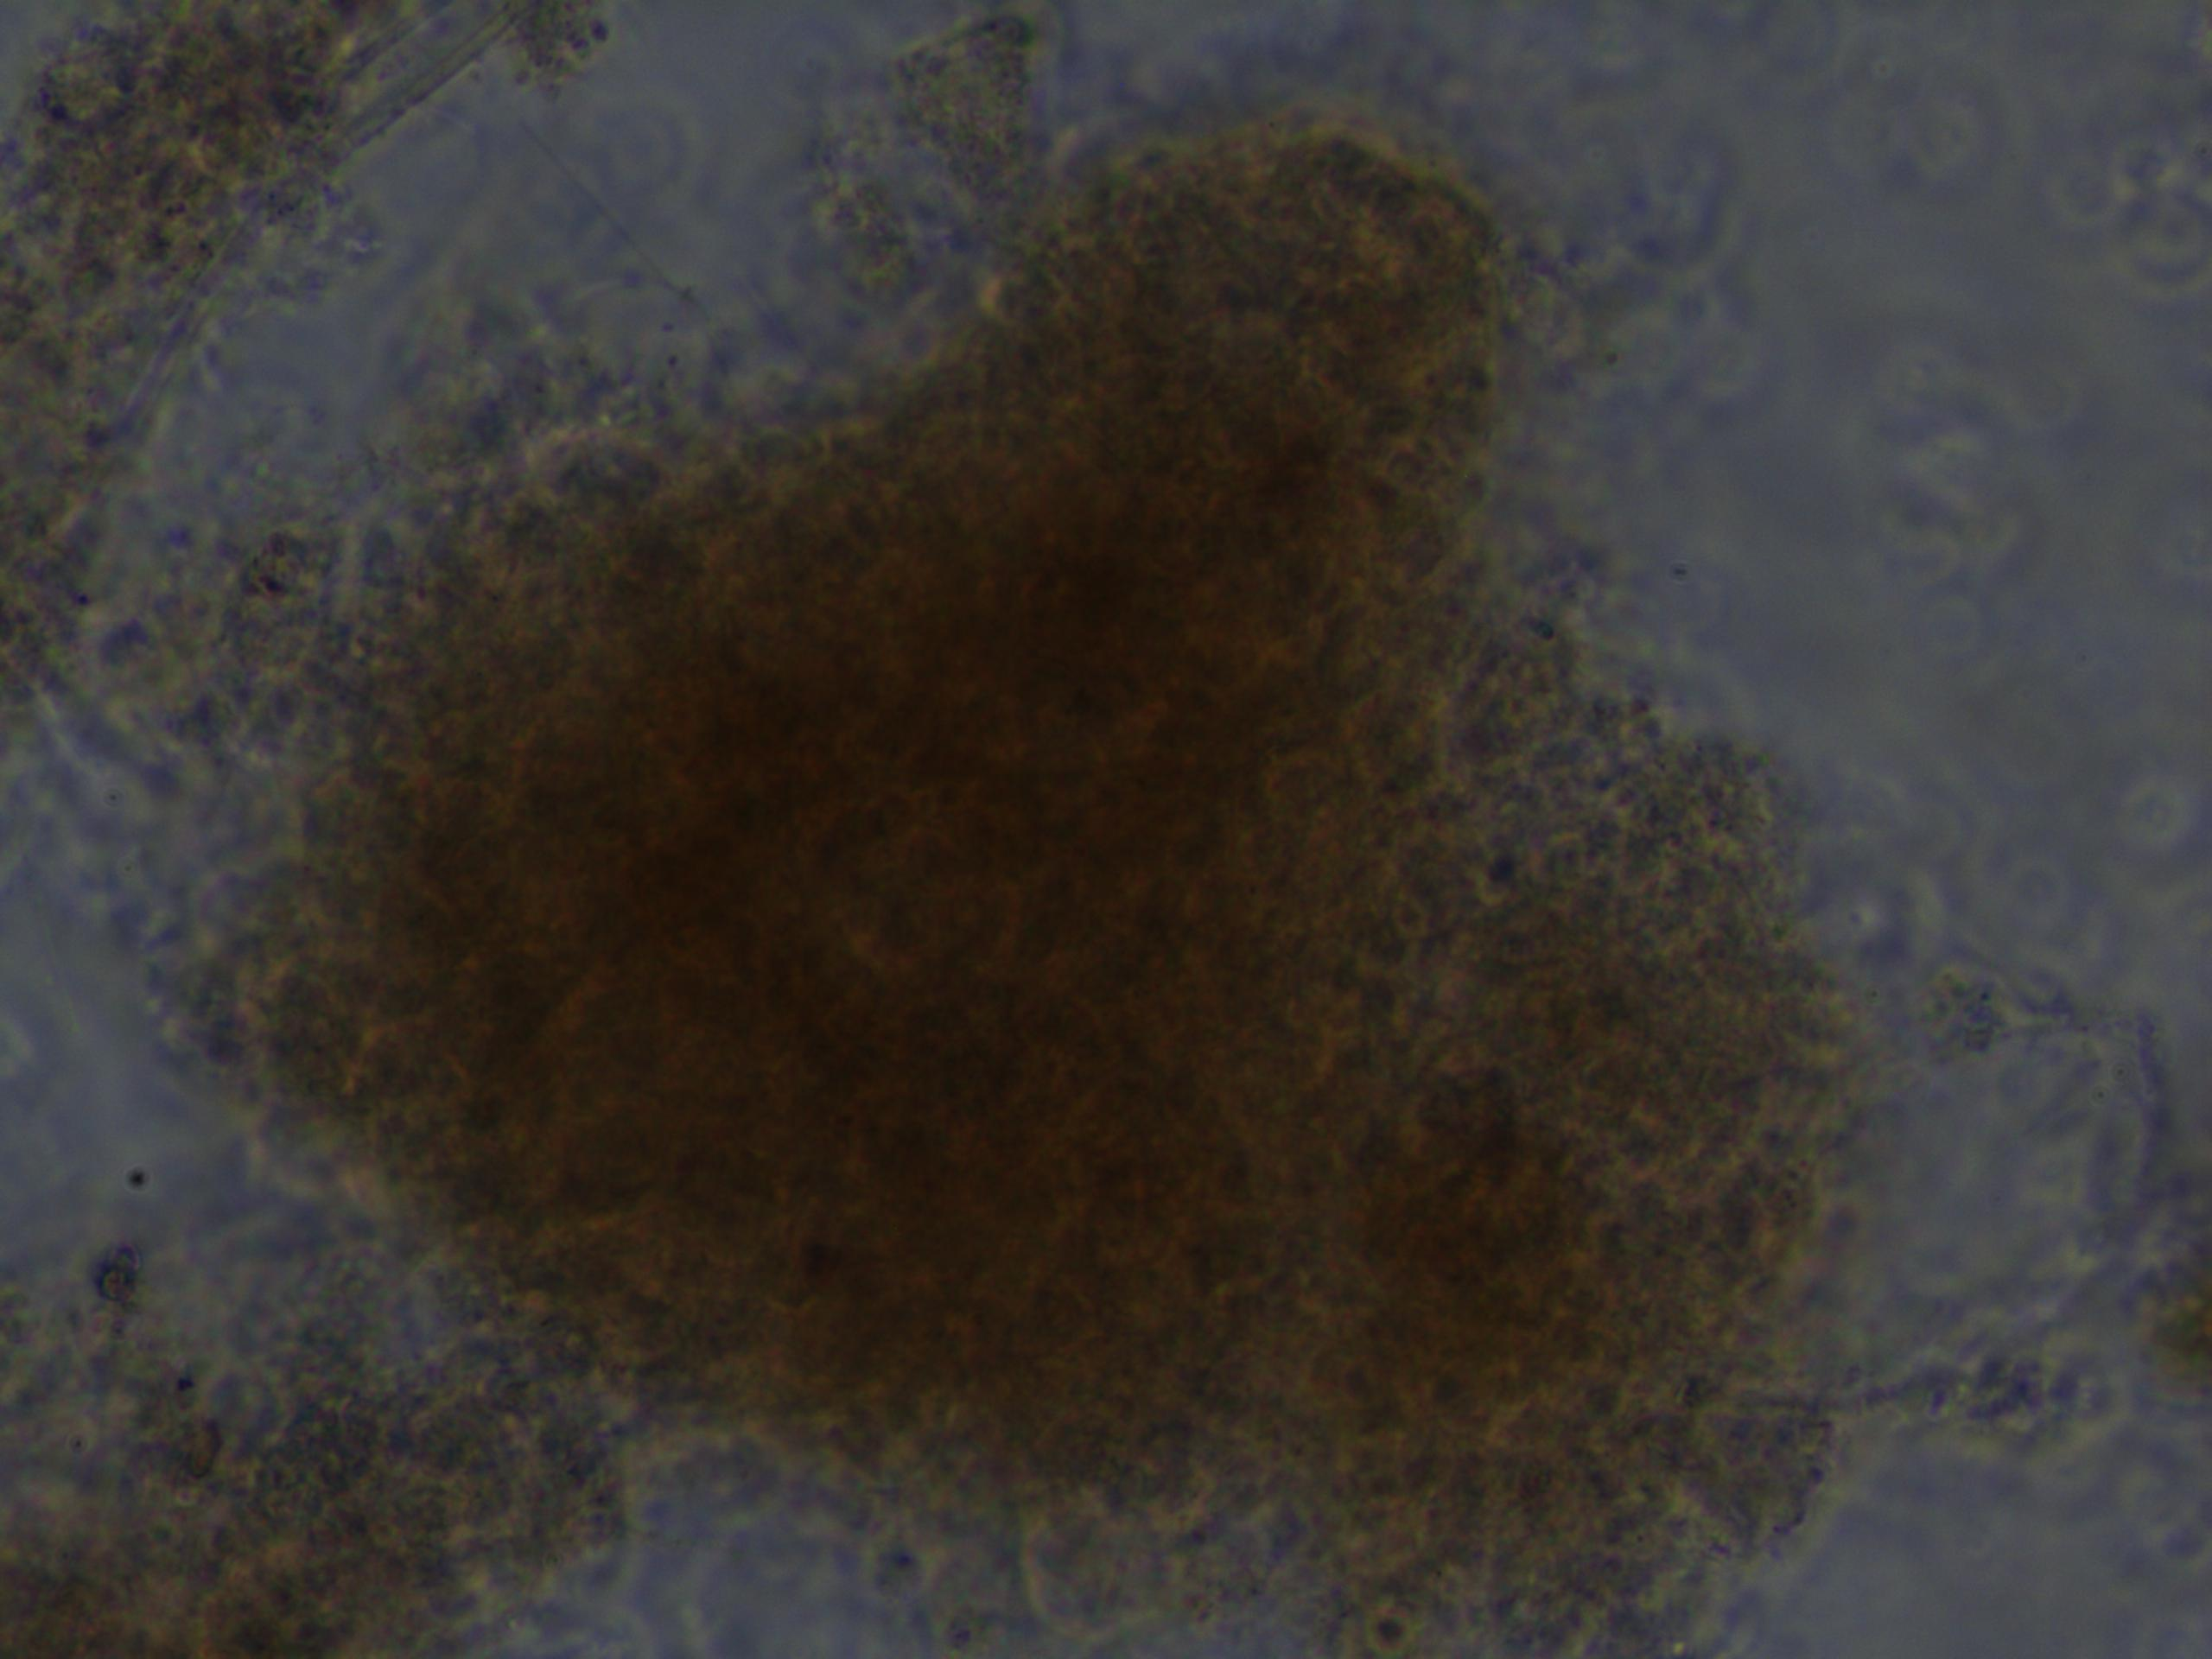spherical_floc: (199, 108, 1872, 1659)
